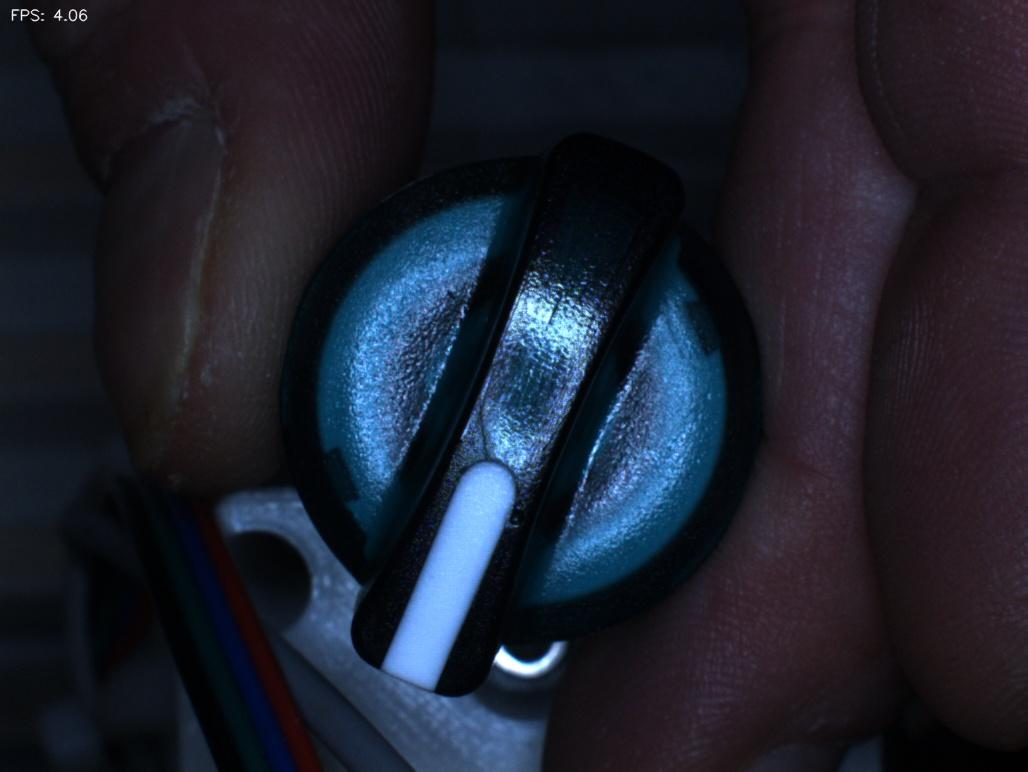Choc: (477, 486, 565, 558)
